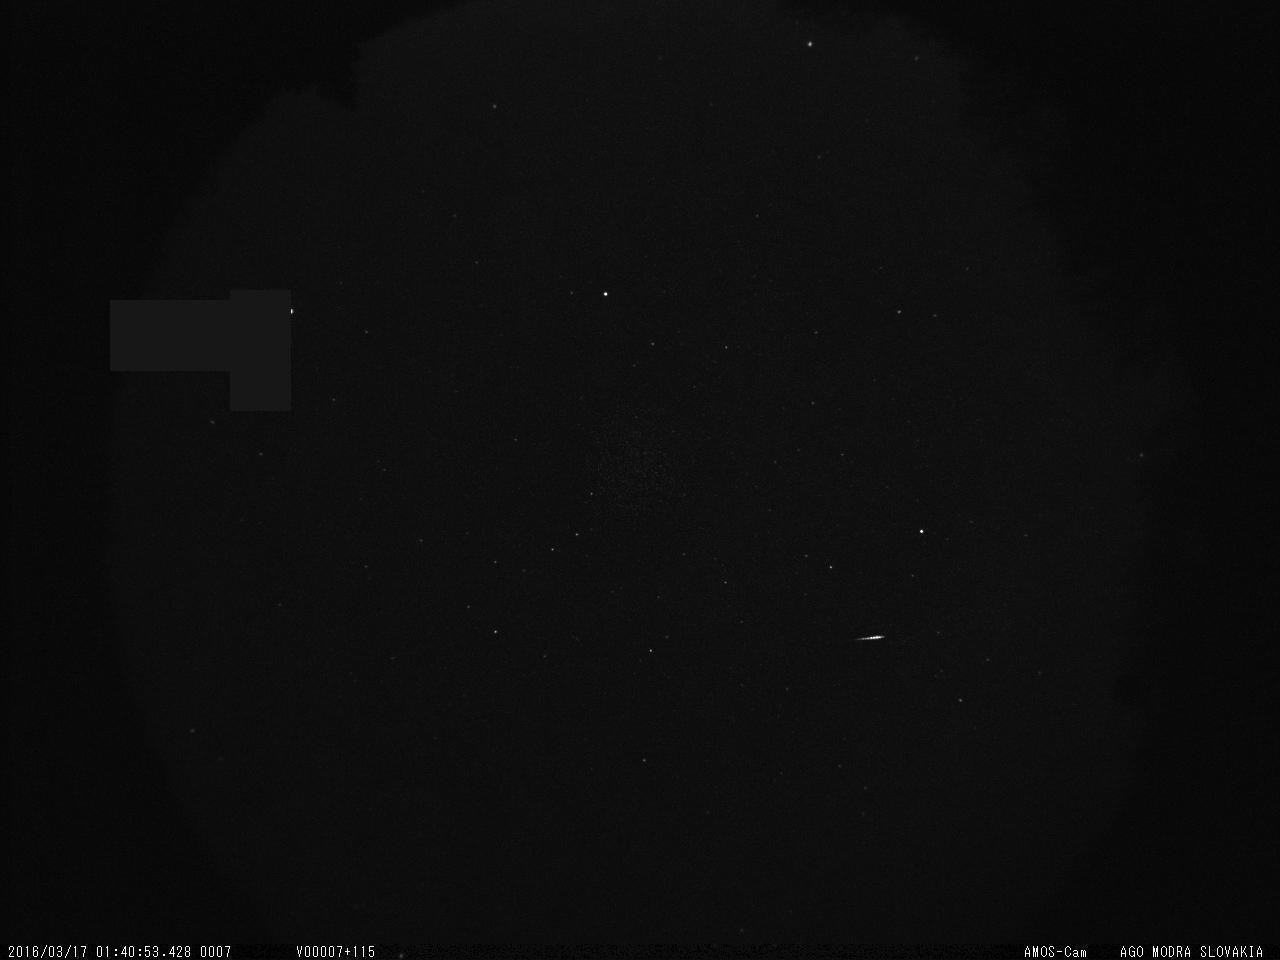Meteor: (851, 629, 895, 650)
